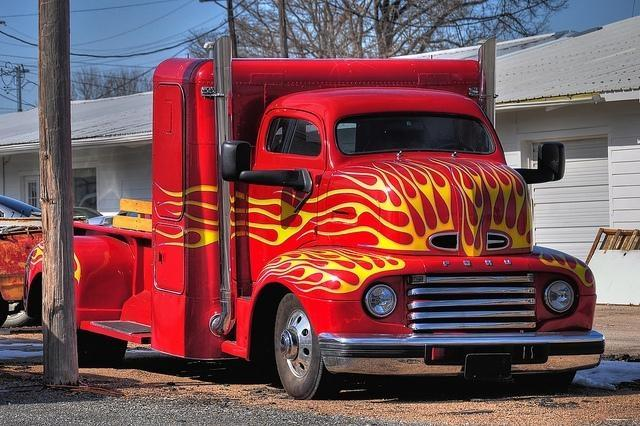car: (2, 192, 42, 219)
truck: (75, 32, 610, 404)
